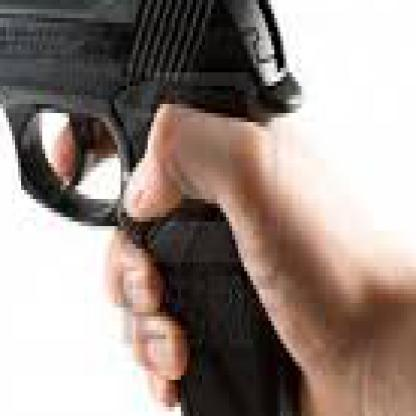gun: (0, 0, 311, 412)
